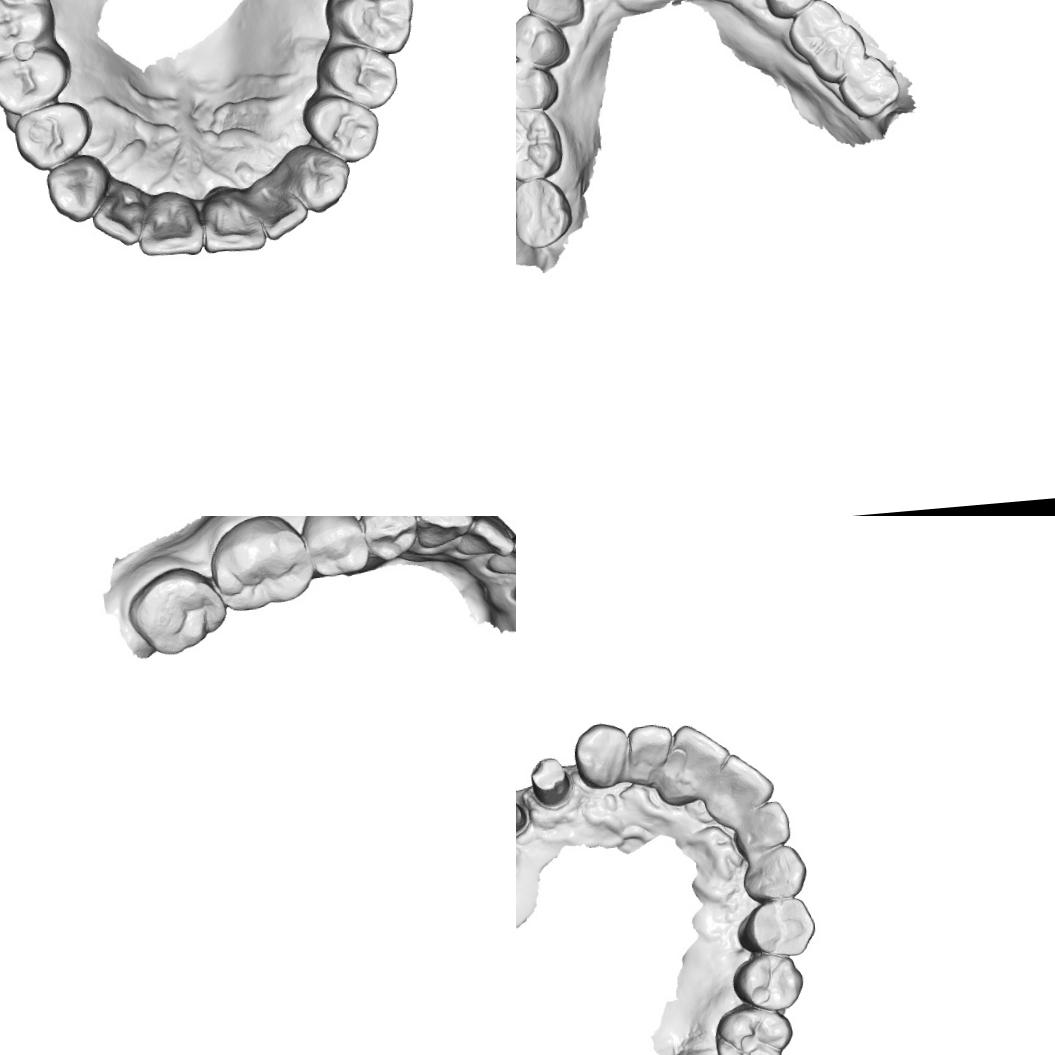abutment: (525, 754, 576, 810), (516, 791, 531, 840)
canine: (38, 151, 114, 227), (285, 139, 355, 216), (570, 719, 632, 792), (739, 842, 810, 903), (410, 516, 475, 554), (521, 0, 585, 30)
incisor: (662, 718, 735, 799), (132, 189, 207, 261), (196, 186, 268, 258), (707, 749, 776, 821), (88, 185, 150, 250), (253, 179, 310, 243), (734, 798, 792, 856), (622, 719, 674, 782), (453, 516, 513, 563), (483, 532, 516, 584)
molar: (128, 558, 235, 661), (206, 516, 314, 614), (783, 0, 868, 87), (320, 0, 417, 59), (711, 999, 798, 1055), (836, 51, 902, 120), (516, 175, 575, 249), (516, 103, 564, 183), (0, 0, 59, 64)
premolar: (314, 38, 400, 114), (300, 88, 382, 166), (734, 896, 818, 962), (0, 48, 77, 117), (11, 103, 88, 172), (295, 516, 373, 580), (728, 950, 804, 1014), (516, 9, 571, 73), (357, 516, 420, 565), (516, 55, 560, 113), (760, 0, 819, 21)
